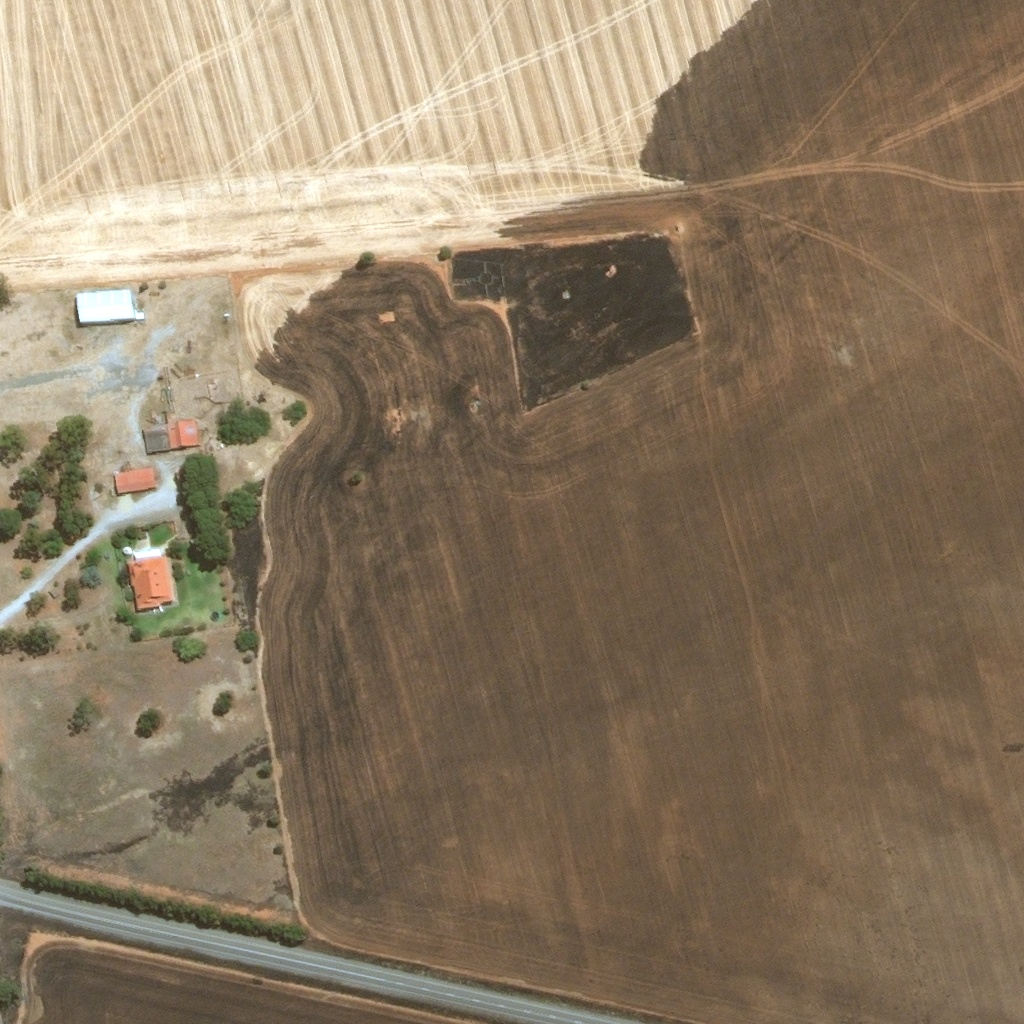0 no-damage: (76, 288, 143, 326), (127, 555, 172, 610), (144, 420, 198, 454), (114, 466, 155, 495), (122, 547, 130, 556)
